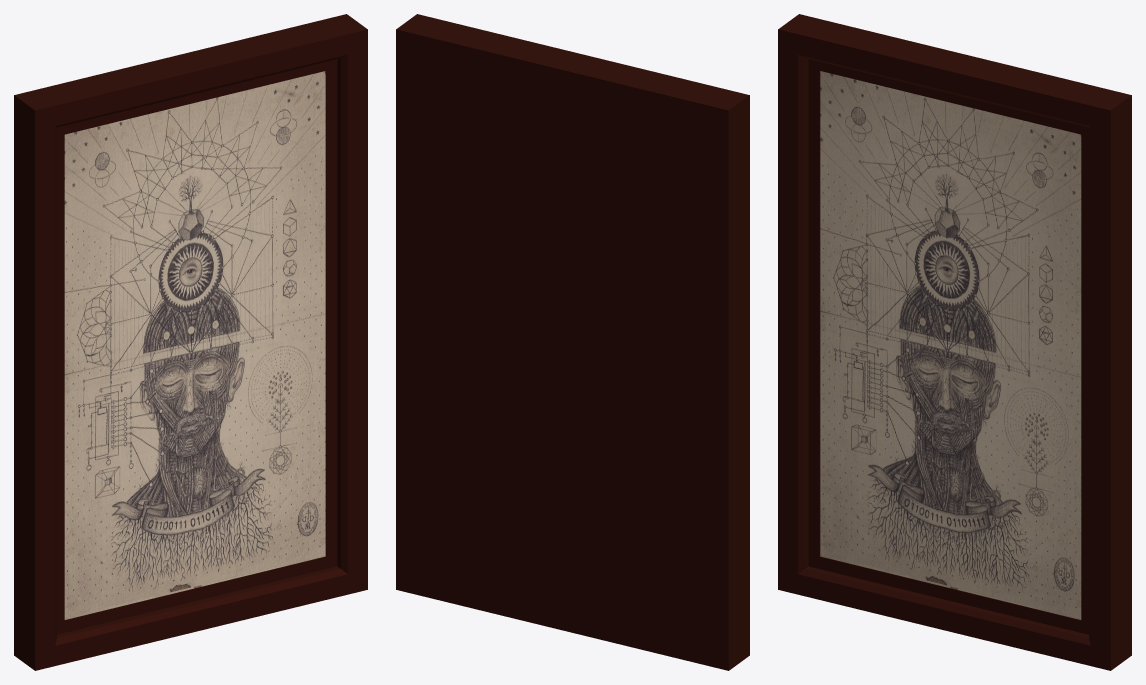
The model's file is pic frame 3.obj.
3 renders of one model, left to right at view 1: azimuth 30°, elevation 25°; view 2: azimuth 150°, elevation 25°; view 3: azimuth 330°, elevation 25°, orthographic.
Visible parts, largest first — view 1: Object.1; view 2: Object.1; view 3: Object.1.
Part boxes in pixels (x1,y1,x2,y2): Object.1: (14,14,367,670); Object.1: (396,14,749,670); Object.1: (778,14,1131,670).
Bounding box in the file's own units: 65.62 × 106 × 7.2.
2 materials, 1 textured.
